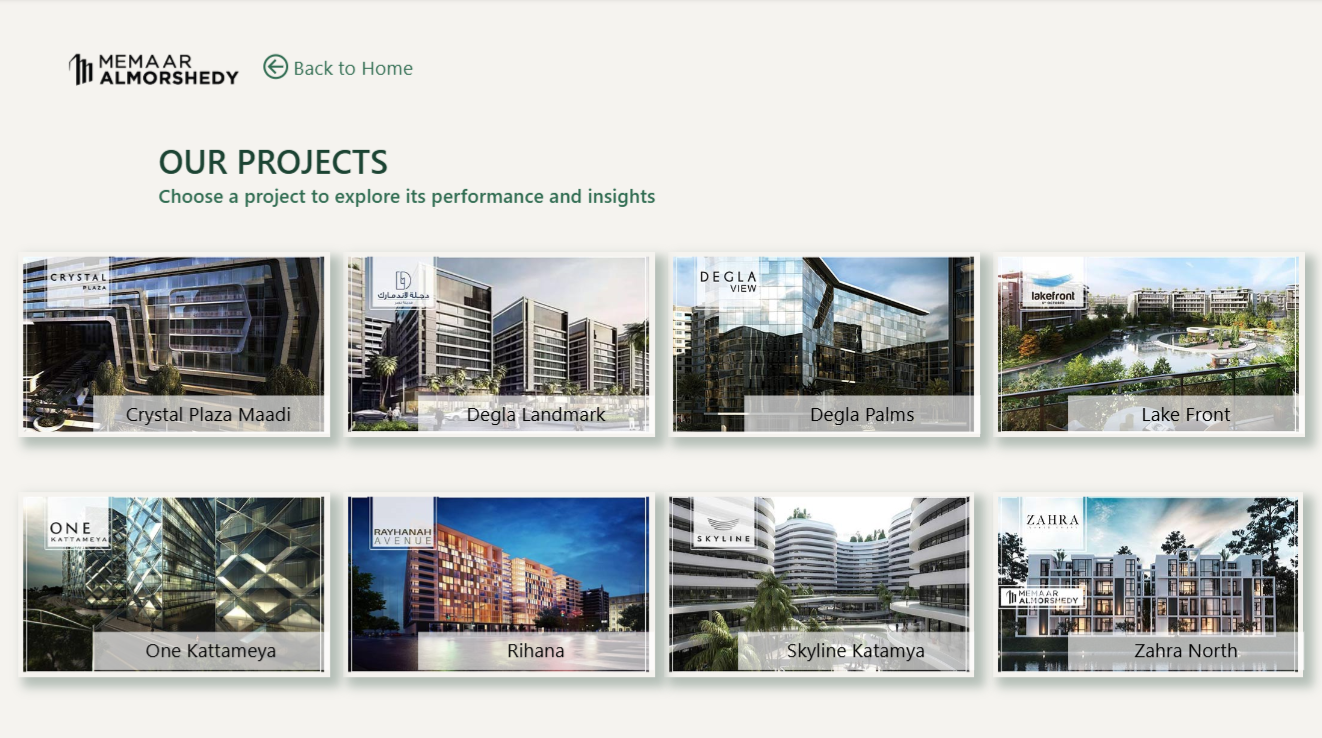

Layout of this report page (visuals, bound fields, positions):
{"tool":"powerbi","page":{"name":"Projects","canvas":[1280,720],"ordinal":3},"visuals":[{"type":"image","box":[0,0,299.1,130.4],"z":0},{"type":"image","box":[19.8,244.5,300.5,178.4],"z":0,"group":"g1"},{"type":"image","box":[646.4,244.5,300.5,178.4],"z":0,"group":"g3"},{"type":"image","box":[19.8,476.4,300.5,178.4],"z":0,"group":"g5"},{"type":"textbox","box":[149.6,130.4,543.4,86.4],"z":1000},{"type":"image","box":[333.1,244.5,300.5,178.4],"z":1000,"group":"g2"},{"type":"image","box":[332.6,476.4,300.5,178.4],"z":1000,"group":"g6"},{"type":"group","id":"g1","title":"Group 1","box":[19.8,244.5,300.5,178.4],"z":2000},{"type":"image","box":[959.7,244.5,300.5,178.4],"z":2000,"group":"g4"},{"type":"image","box":[642.7,476.4,299.1,178.4],"z":2000,"group":"g7"},{"type":"group","id":"g2","title":"Group 2","box":[333.1,244.5,300.5,178.4],"z":3000},{"type":"image","box":[959.7,476.4,299.1,178.4],"z":3000,"group":"g8"},{"type":"group","id":"g3","title":"Group 3","box":[646.4,244.5,301,178.4],"z":4000},{"type":"group","id":"g4","title":"Group 4","box":[959.7,244.5,300.5,178.4],"z":5000},{"type":"textbox","box":[405.4,383.1,227.8,37],"z":6000,"group":"g2"},{"type":"group","id":"g5","title":"Group 5","box":[19.8,476.4,300.5,178.4],"z":6000},{"type":"textbox","box":[92.5,383.1,227.8,37],"z":6004,"group":"g1"},{"type":"group","id":"g6","title":"Group 6","box":[332.6,476.4,300.5,178.4],"z":7000},{"type":"textbox","box":[404.8,612,227.8,37],"z":7000,"group":"g6"},{"type":"group","id":"g7","title":"Group 7","box":[642.7,476.4,299.1,178.4],"z":8000},{"type":"textbox","box":[92,612,227.8,37],"z":8000,"group":"g5"},{"type":"textbox","box":[1032.4,383.1,227.8,37],"z":9000,"group":"g4"},{"type":"group","id":"g8","title":"Group 8","box":[959.7,476.4,300,178.4],"z":9000},{"type":"textbox","box":[713.5,612,227.8,37],"z":9000,"group":"g7"},{"type":"textbox","box":[1031.9,612,227.8,37],"z":9000,"group":"g8"},{"type":"actionButton","title":"Back to Home","box":[251.1,39.8,153.7,53.5],"z":10000},{"type":"textbox","box":[719.6,383.1,227.8,37],"z":10000,"group":"g3"},{"type":"actionButton","box":[19.2,247,300.5,175.6],"z":11000},{"type":"actionButton","box":[333.4,244.3,300.5,175.6],"z":12000},{"type":"actionButton","box":[646.3,247,300.5,175.6],"z":13000},{"type":"actionButton","box":[959.2,244.3,300.5,175.6],"z":14000},{"type":"actionButton","box":[19.2,480.3,300.5,175.6],"z":15000},{"type":"actionButton","box":[333.4,477.5,300.5,175.6],"z":16000},{"type":"actionButton","box":[640.8,489.9,300.5,175.6],"z":17000},{"type":"actionButton","box":[957.8,478.9,300.5,175.6],"z":18000}]}

Visuals, with their boxes in screenshot pixels (x1, y1, x2, y2), scaled from the page's 1280x720 canvas onto the 1322x738 screenshot:
image: 0:0:309:134
image: 20:251:331:433
image: 668:251:978:433
image: 20:488:331:671
textbox: 155:134:716:222
image: 344:251:654:433
image: 344:488:654:671
"Group 1" group: 20:251:331:433
image: 991:251:1302:433
image: 664:488:973:671
"Group 2" group: 344:251:654:433
image: 991:488:1300:671
"Group 3" group: 668:251:978:433
"Group 4" group: 991:251:1302:433
textbox: 419:393:654:431
"Group 5" group: 20:488:331:671
textbox: 96:393:331:431
"Group 6" group: 344:488:654:671
textbox: 418:627:653:665
"Group 7" group: 664:488:973:671
textbox: 95:627:330:665
textbox: 1066:393:1302:431
"Group 8" group: 991:488:1301:671
textbox: 737:627:972:665
textbox: 1066:627:1301:665
"Back to Home" actionButton: 259:41:418:96
textbox: 743:393:978:431
actionButton: 20:253:330:433
actionButton: 344:250:655:430
actionButton: 668:253:978:433
actionButton: 991:250:1301:430
actionButton: 20:492:330:672
actionButton: 344:489:655:669
actionButton: 662:502:972:682
actionButton: 989:491:1300:671
